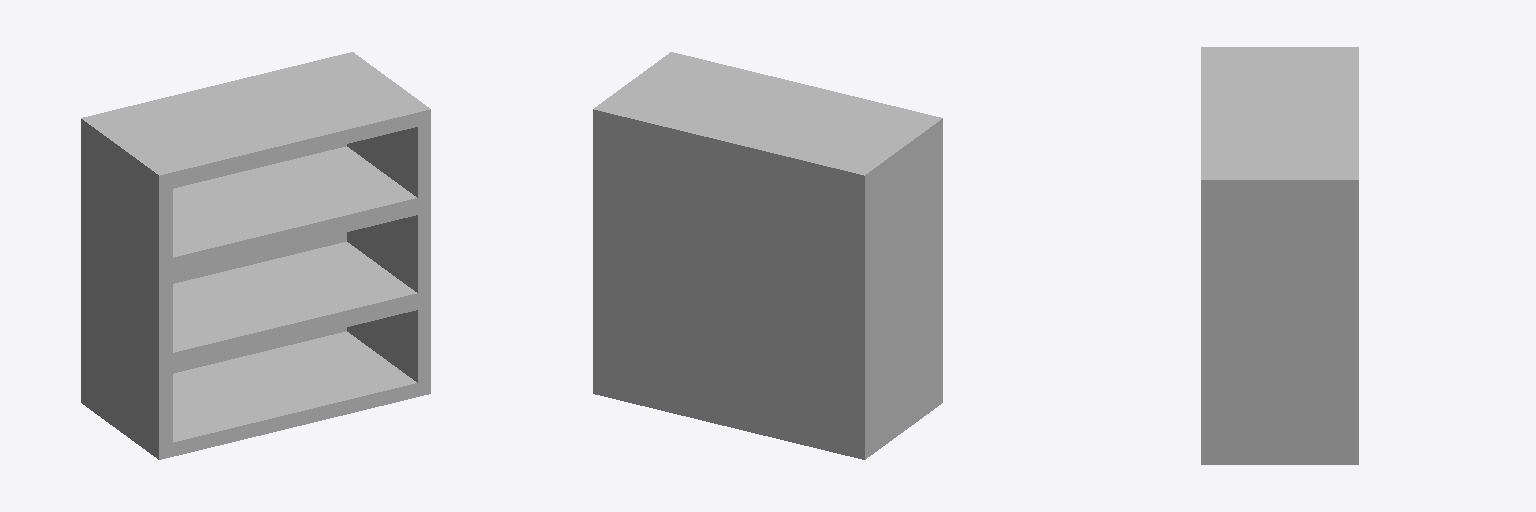
File: shelf.obj
3 views of the same model, side by side, from view 1: azimuth 30°, elevation 25°; view 2: azimuth 150°, elevation 25°; view 3: azimuth 270°, elevation 25° (orthographic).
Bounding box in the file's own units: 1 × 1 × 0.5.